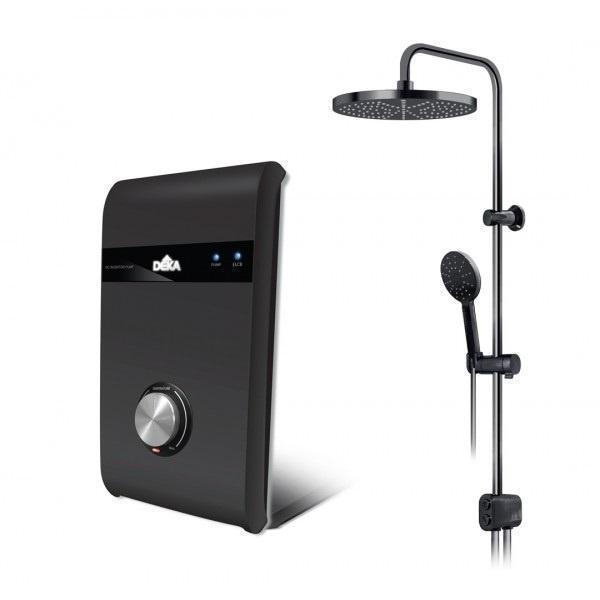Ducha: (334, 22, 561, 556)
